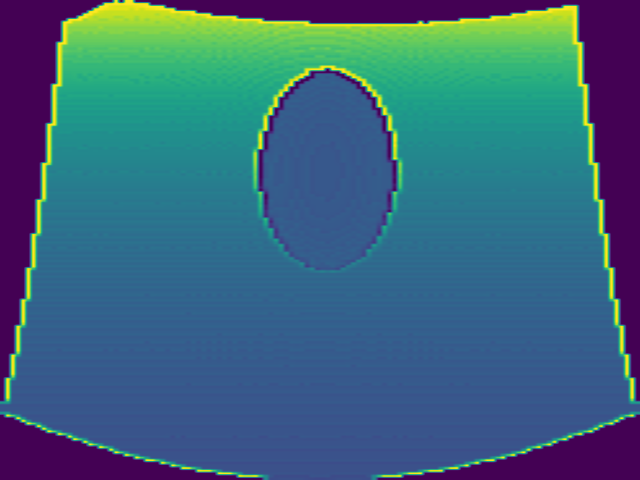sphere: (251, 64, 403, 273)
